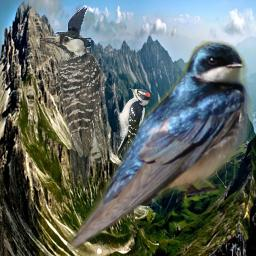Crow: (51, 6, 91, 48)
Swallow: (67, 37, 253, 255)
Woodpecker: (38, 31, 118, 192), (114, 86, 151, 158)
